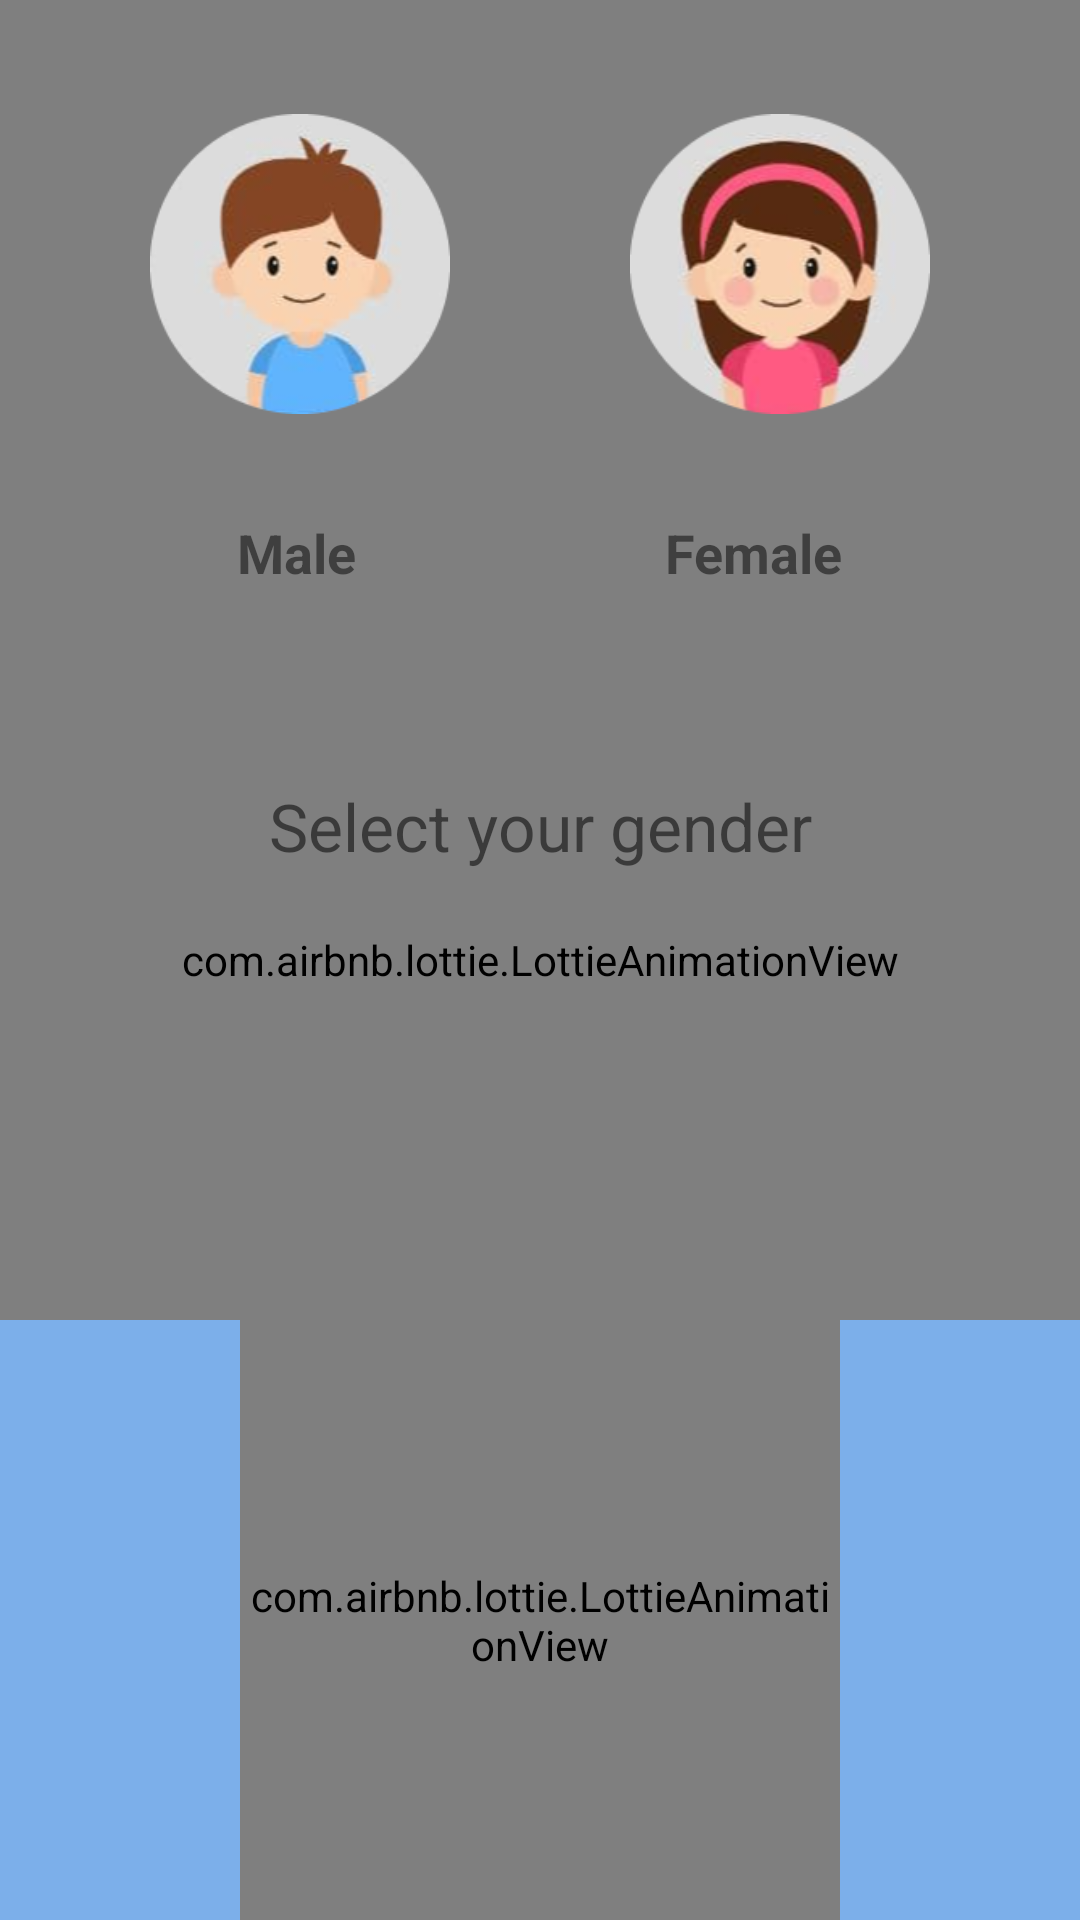

Icons on this 1080 x 1920 Android screen, each with its box as bbox=(x1, y1, x2, y2):
boy: bbox=(150, 114, 450, 414)
girl: bbox=(630, 114, 930, 414)
